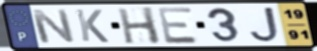3: (203, 6, 243, 44)
E: (155, 6, 201, 45)
H: (115, 6, 163, 46)
J: (248, 6, 282, 44)
K: (74, 8, 112, 44)
N: (29, 9, 78, 45)
